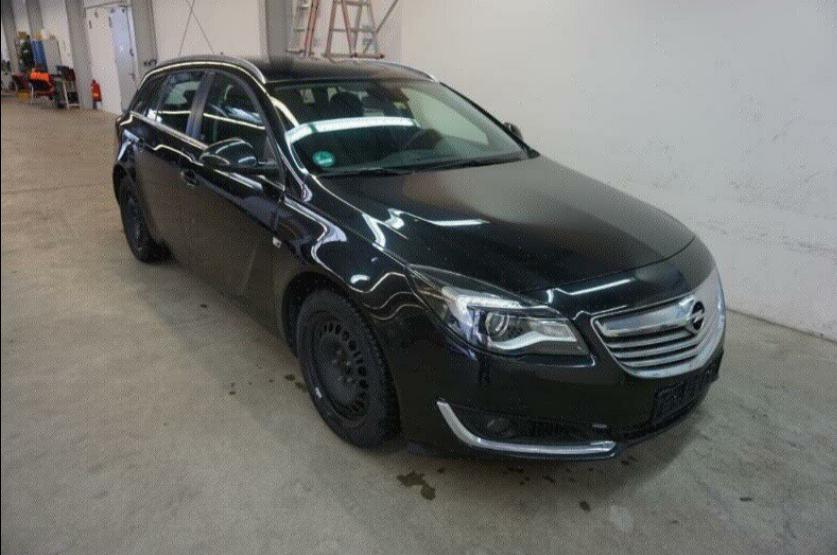Back-door: (133, 69, 208, 264)
Back-wheel: (118, 177, 166, 262)
Back-window: (157, 72, 204, 134), (146, 76, 169, 119), (132, 78, 159, 114)
Fender: (272, 190, 488, 406)
Front-bumper: (395, 238, 726, 461)
Front-door: (177, 70, 283, 336)
Front-wheel: (293, 291, 399, 447)
Front-window: (198, 76, 275, 162)
Grille: (593, 266, 725, 375)
Headlight: (409, 265, 595, 365)
Hood: (303, 149, 693, 293)
License-plate: (653, 354, 722, 418)
Mirror: (201, 139, 278, 174), (505, 122, 525, 140)
Quarter-panel: (112, 111, 142, 190)
Roof: (160, 53, 432, 89)
Tail-light: (114, 111, 129, 156)
Windshield: (271, 80, 527, 170)
